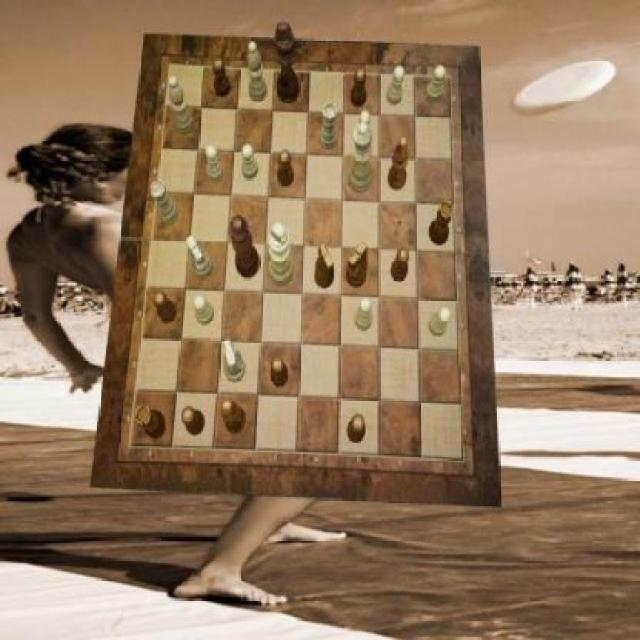bishop: (388, 137, 408, 191), (222, 399, 246, 433)
black-bishop: (274, 23, 300, 105)
black-king: (346, 242, 369, 288), (316, 243, 336, 289)
black-knight: (152, 292, 176, 325), (182, 408, 206, 437), (214, 58, 231, 98), (391, 248, 410, 282), (277, 149, 294, 187), (351, 68, 367, 108), (271, 357, 288, 388), (348, 414, 365, 443)
black-pawn: (229, 216, 260, 280)
black-queen: (429, 201, 454, 247), (136, 405, 166, 439)
black-rook: (169, 77, 194, 135), (248, 43, 268, 103)
white-bishop: (268, 222, 294, 286)
white-king: (186, 235, 213, 278), (223, 338, 246, 381)
white-knight: (426, 65, 446, 102), (206, 146, 224, 185), (428, 306, 450, 337), (388, 66, 405, 106), (193, 296, 214, 326), (355, 297, 373, 331), (243, 144, 260, 180), (356, 111, 372, 149)
white-pawn: (349, 121, 374, 194)
white-queen: (151, 178, 178, 224), (318, 103, 338, 149)
